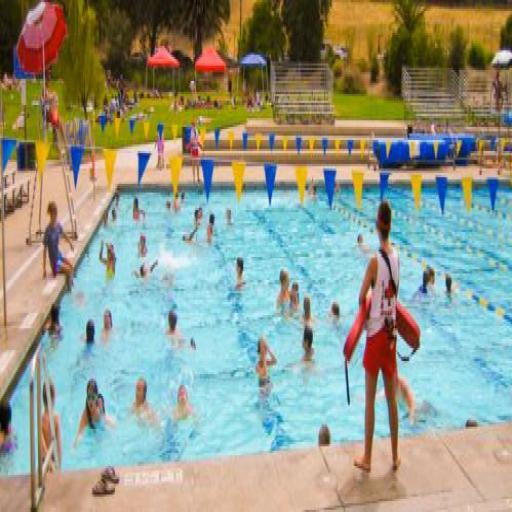swimming: (351, 197, 403, 477), (39, 197, 77, 293), (72, 374, 113, 451), (37, 374, 64, 477), (127, 372, 157, 429), (252, 332, 278, 390), (231, 252, 247, 296)
